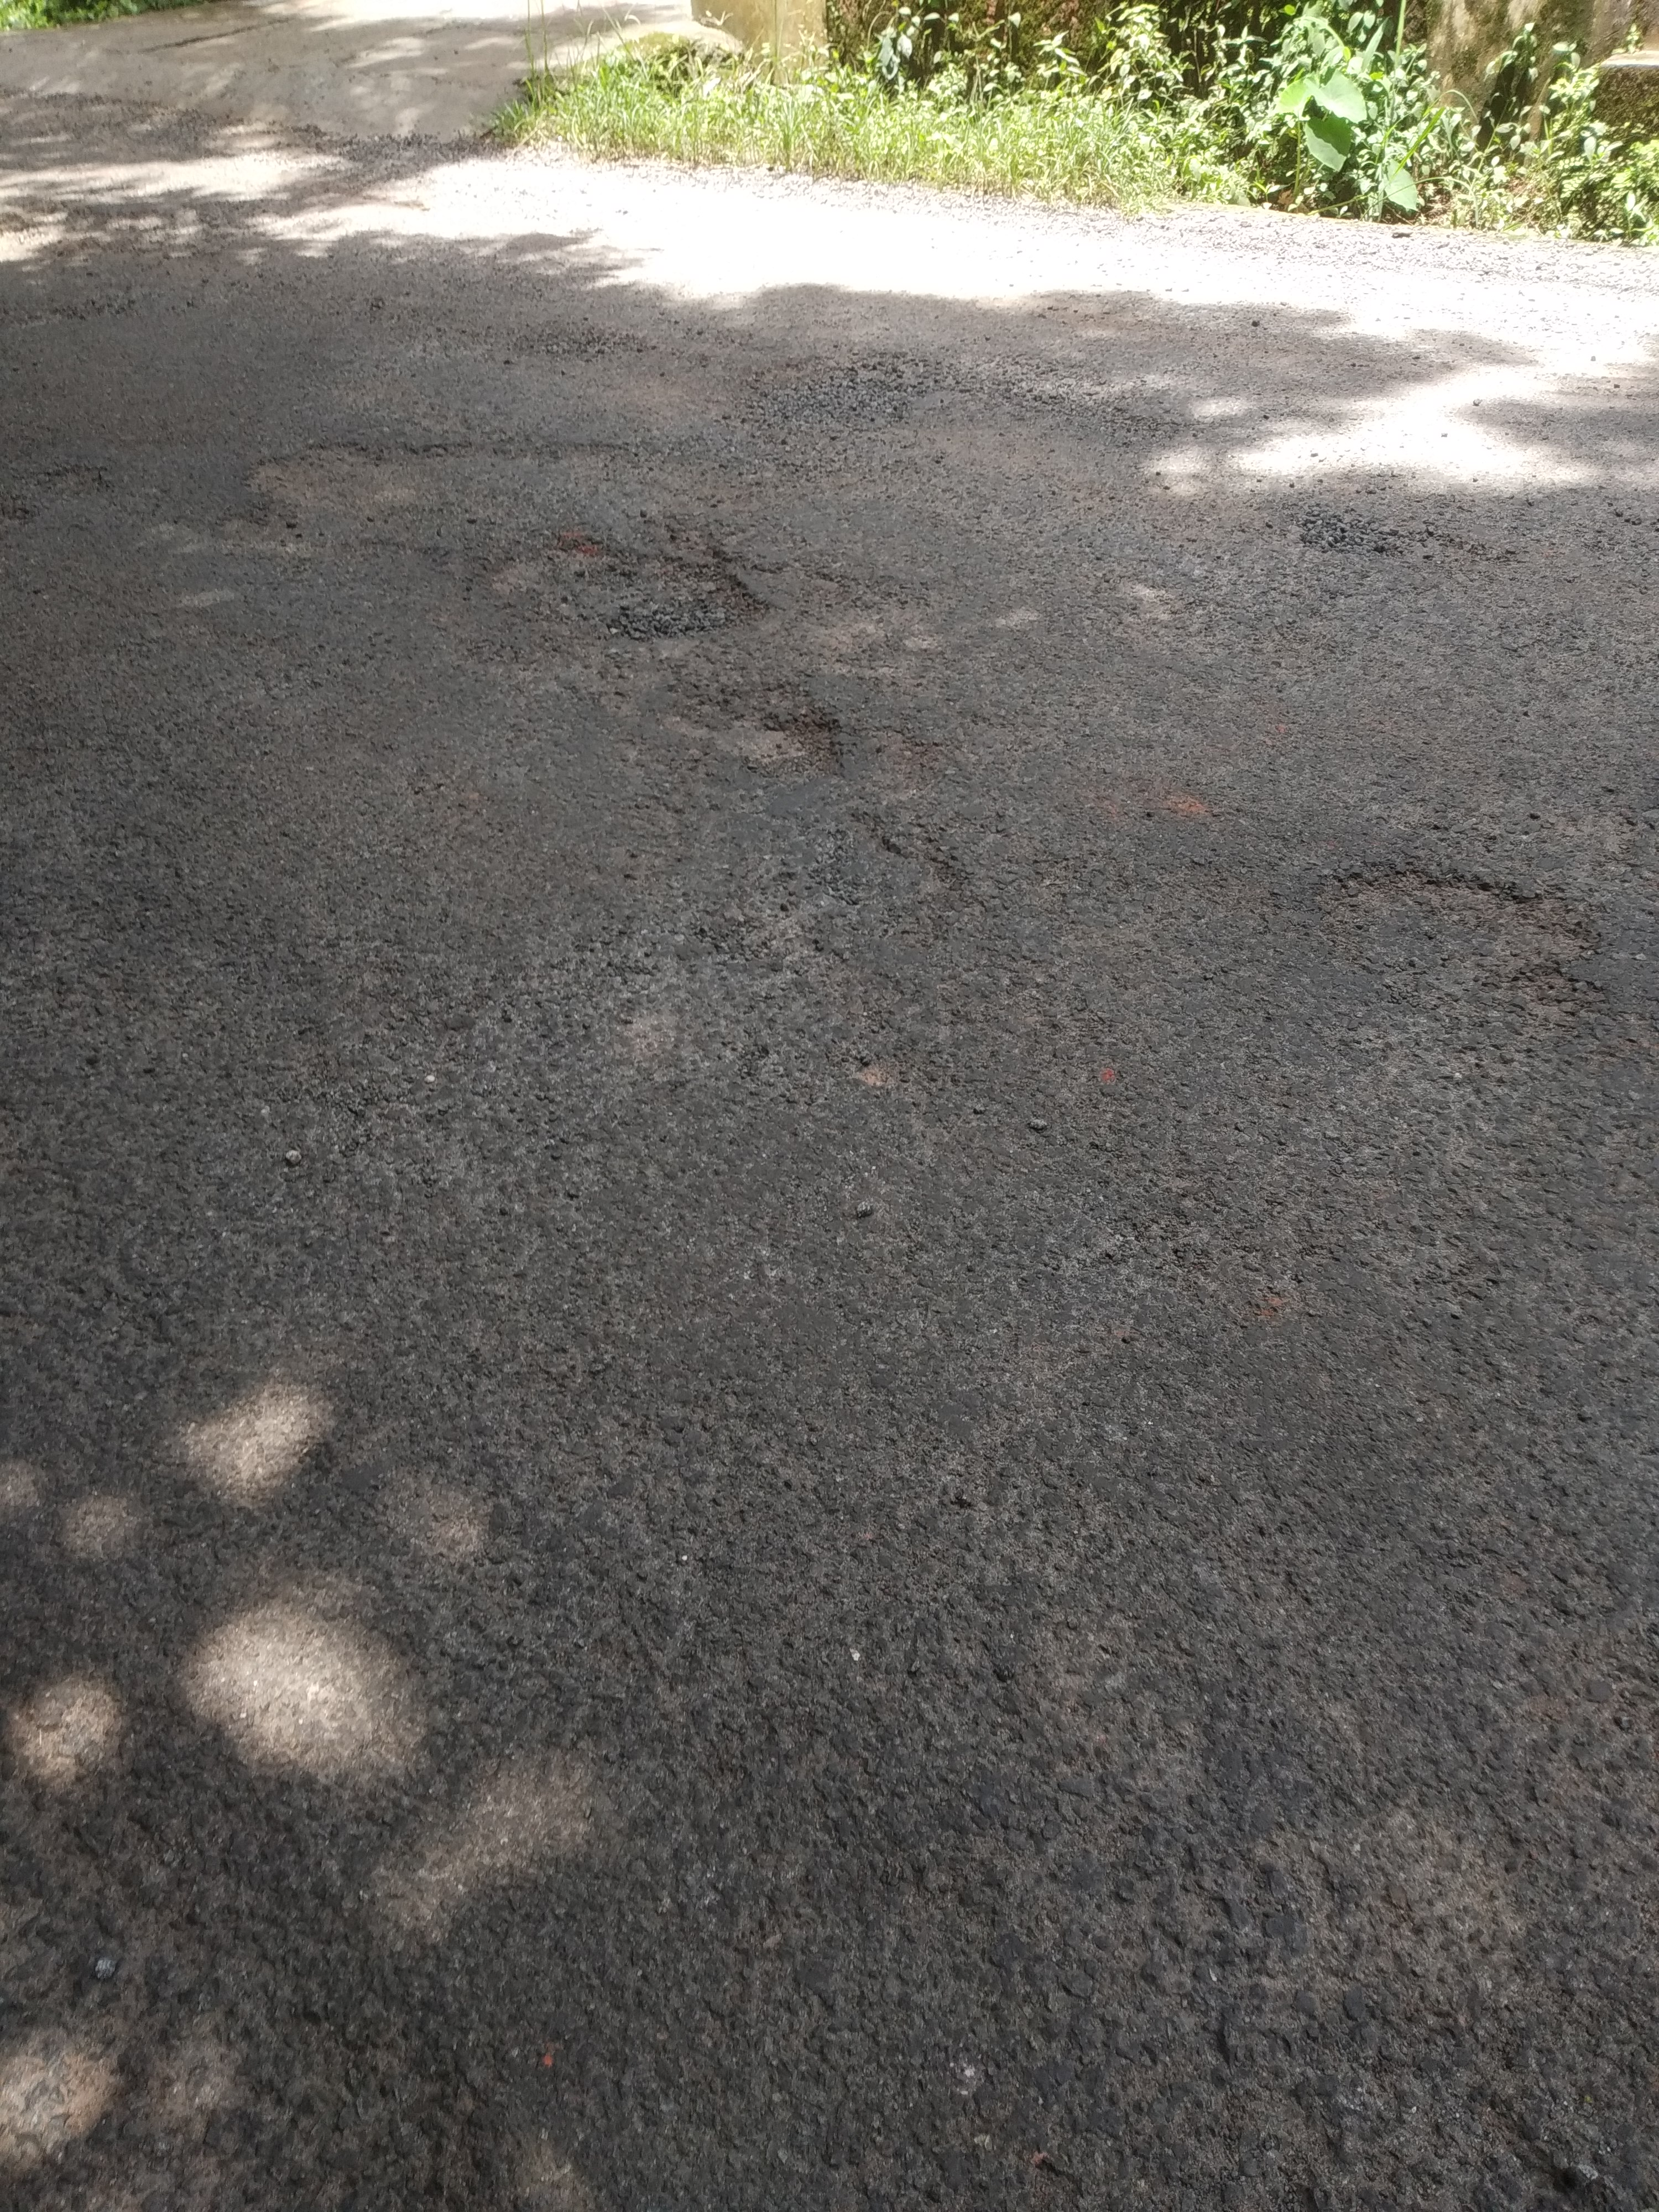potholes: (458, 523, 775, 665)
